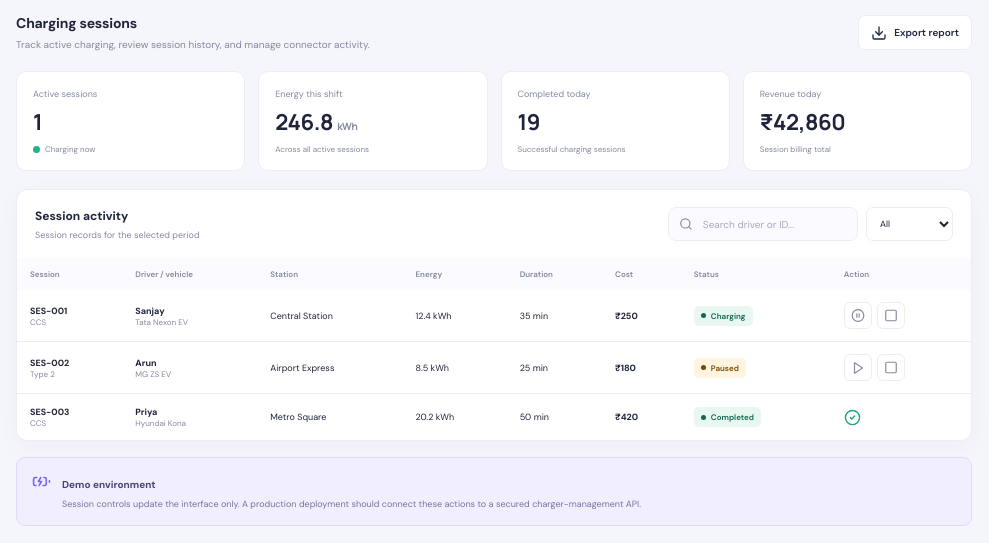
it: Sessions › searches sessions by driver
This screenshot has width=989, height=543.
Type "Arun" into the field named "Search sessions".
click(774, 224); type("Arun")  # box x1=701 y1=216 x2=847 y2=232
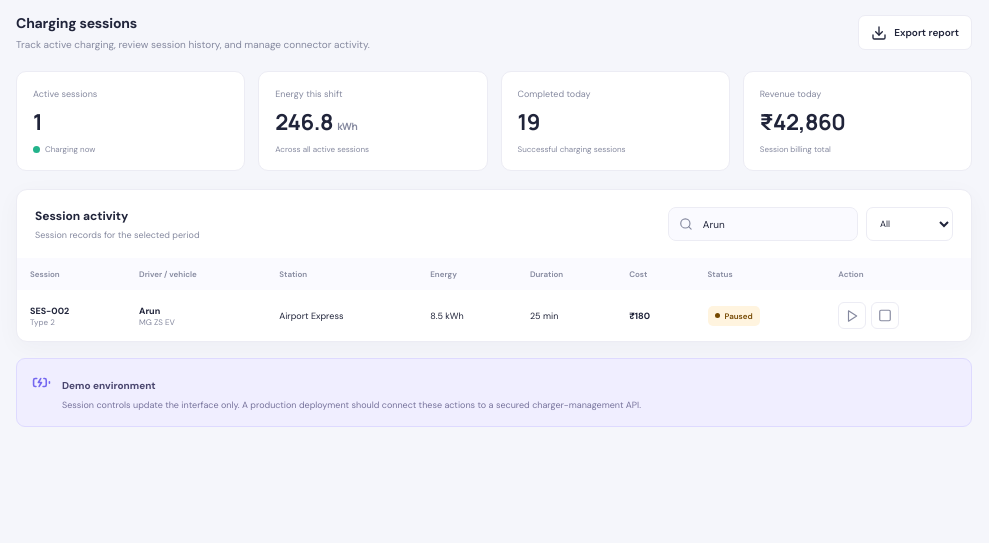
Expected: the text "SES-002" is shown, x1=30 y1=304 x2=69 y2=316
Result: the text "SES-001" is gone
Result: the text "SES-003" is gone
